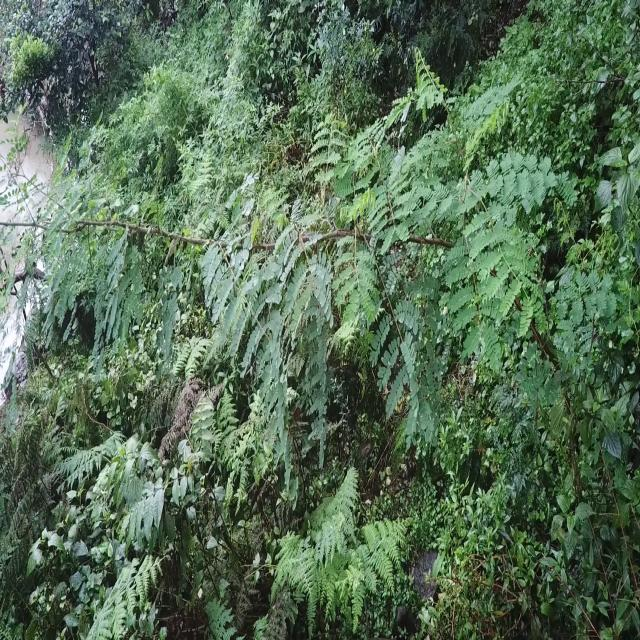Mysore-Thorn-Weed: (0, 82, 600, 458)
